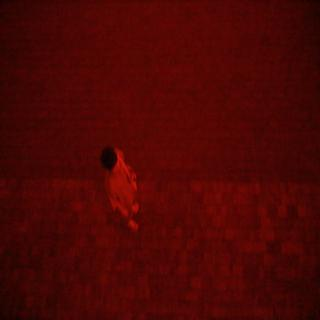person: (92, 136, 152, 232)
